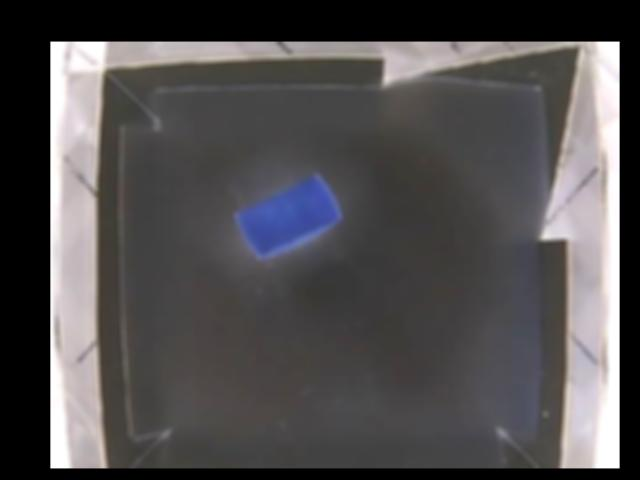Potato: (236, 174, 342, 259)
